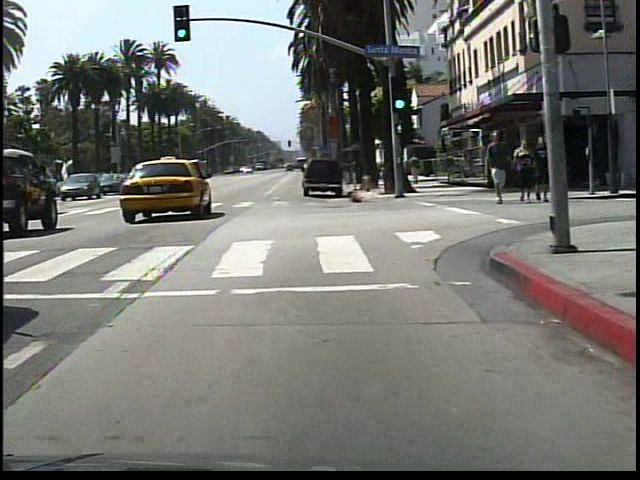person: (480, 125, 513, 209), (513, 135, 536, 206), (404, 149, 426, 189)
